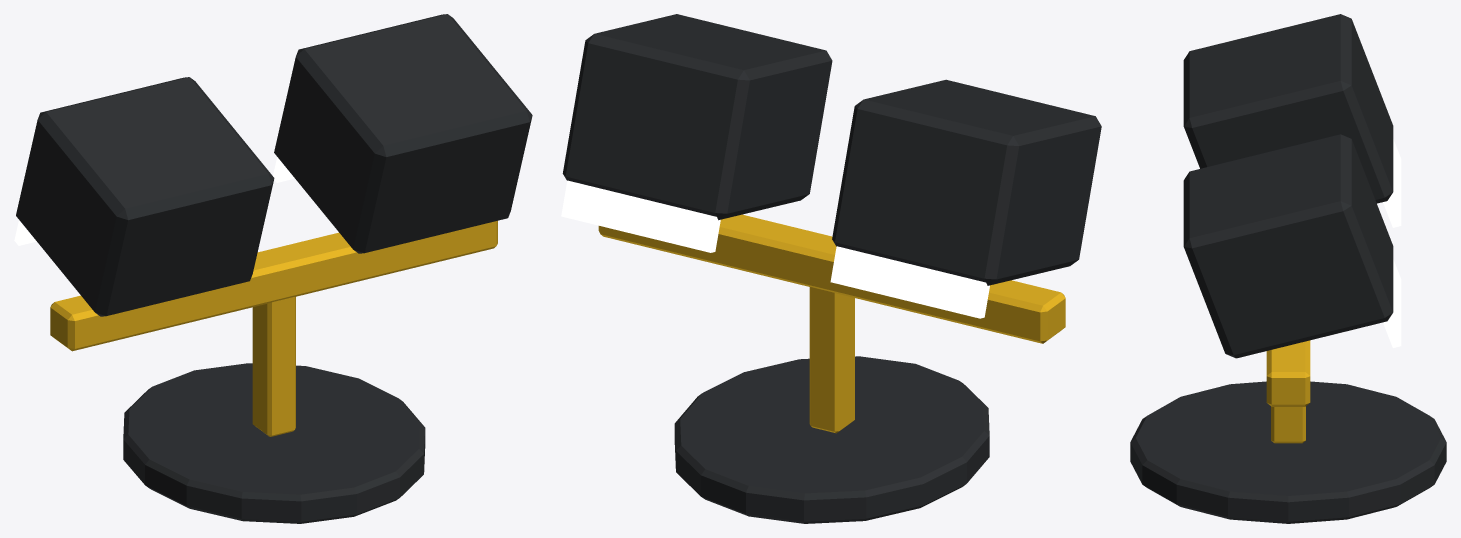
Rendered from work_light.glb.
3 views of the same model, side by side, from view 1: azimuth 30°, elevation 25°; view 2: azimuth 150°, elevation 25°; view 3: azimuth 270°, elevation 25° (orthographic). The views are drawn at different scales.
Parts seen in each view (by area): view 1: work_light; view 2: work_light; view 3: work_light.
Boxes of the visible parts, box(x1,y1,x2,y2) form: work_light: box(14, 14, 532, 523); work_light: box(561, 14, 1101, 523); work_light: box(1130, 14, 1446, 523).
Size of the model in its own units: 0.6 by 0.5 by 0.4.
